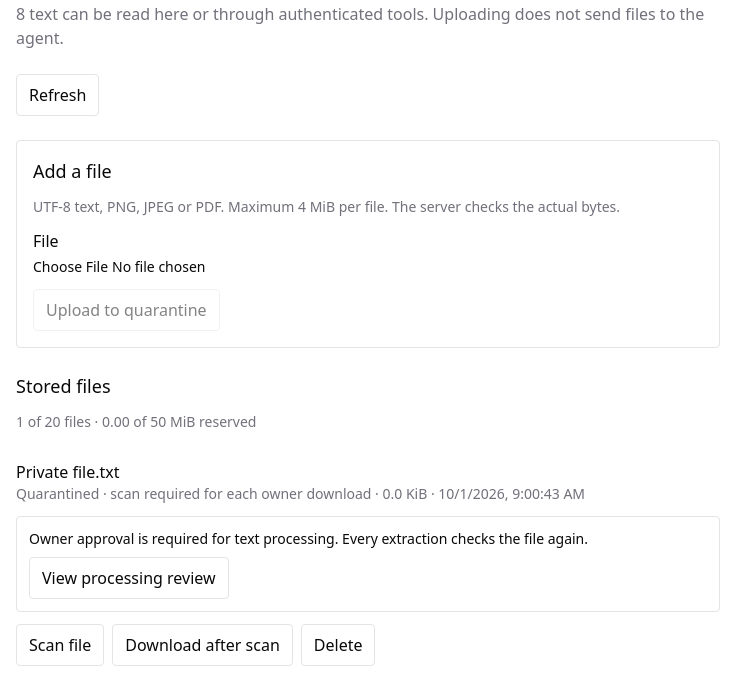
it: offers a scanned owner download and saves only the returned private bytes
(page scrolled)
Click the button "Download after scan" at x=203, y=645, box left=112, top=624, right=293, bottom=666
(page scrolled)
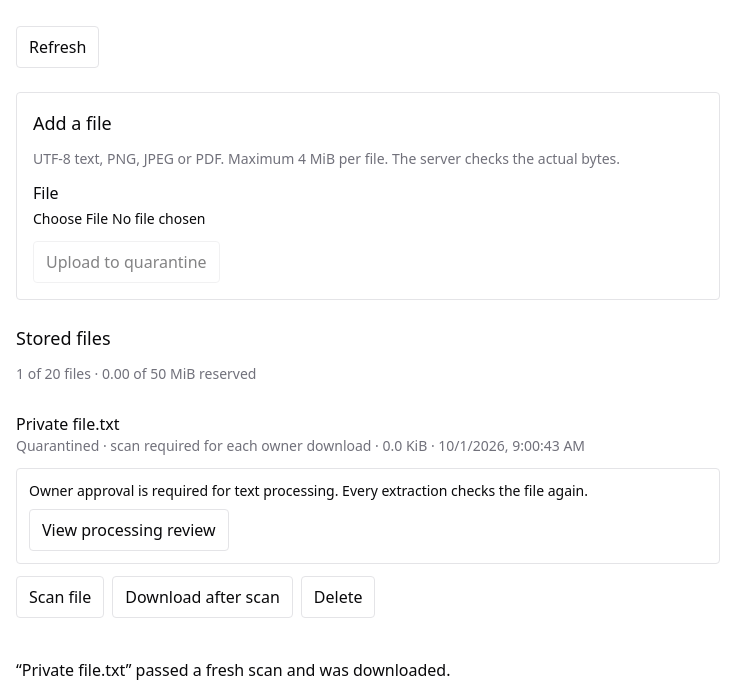
Expected: the message shows "passed a fresh scan", left=16, top=659, right=450, bottom=681
